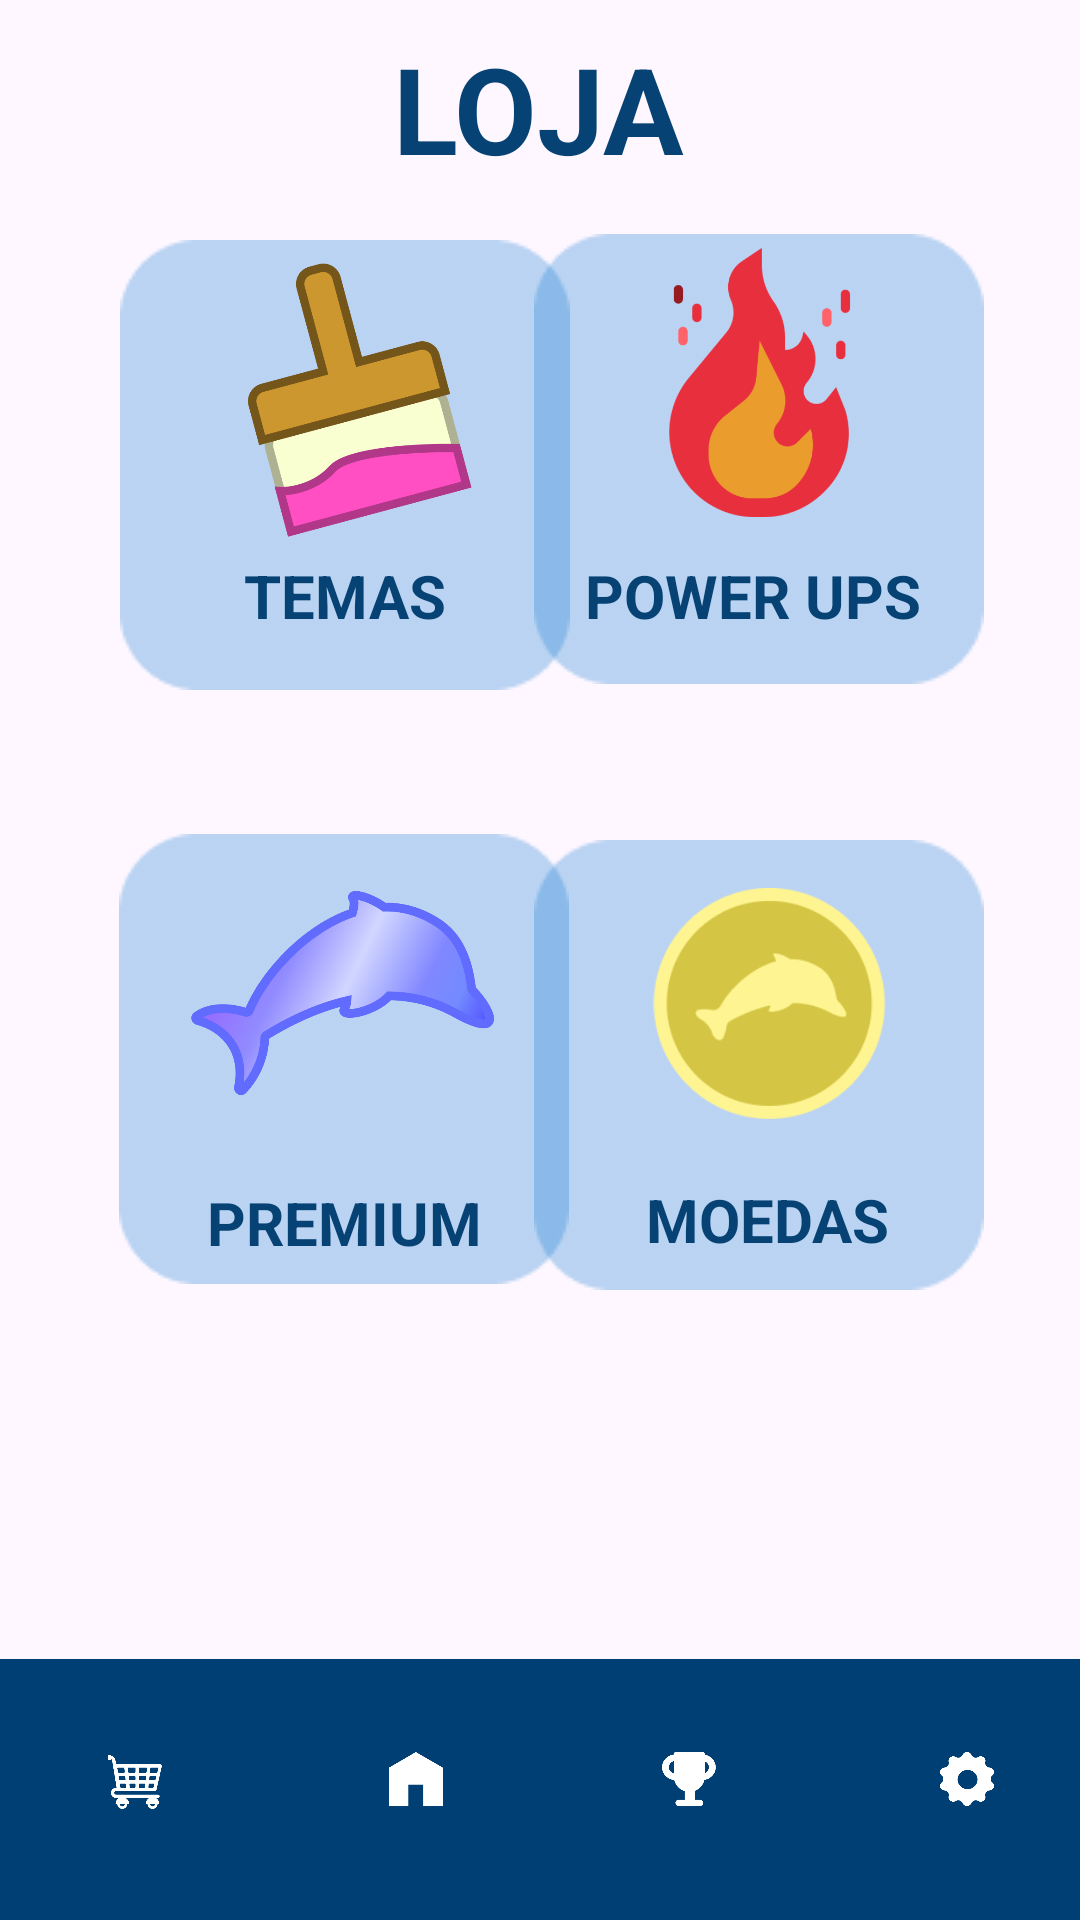

Where icons sit on this 1080px×1920px app screen, as detection(x1, y1, x2, y2):
carrinho: detection(108, 1755, 162, 1809)
